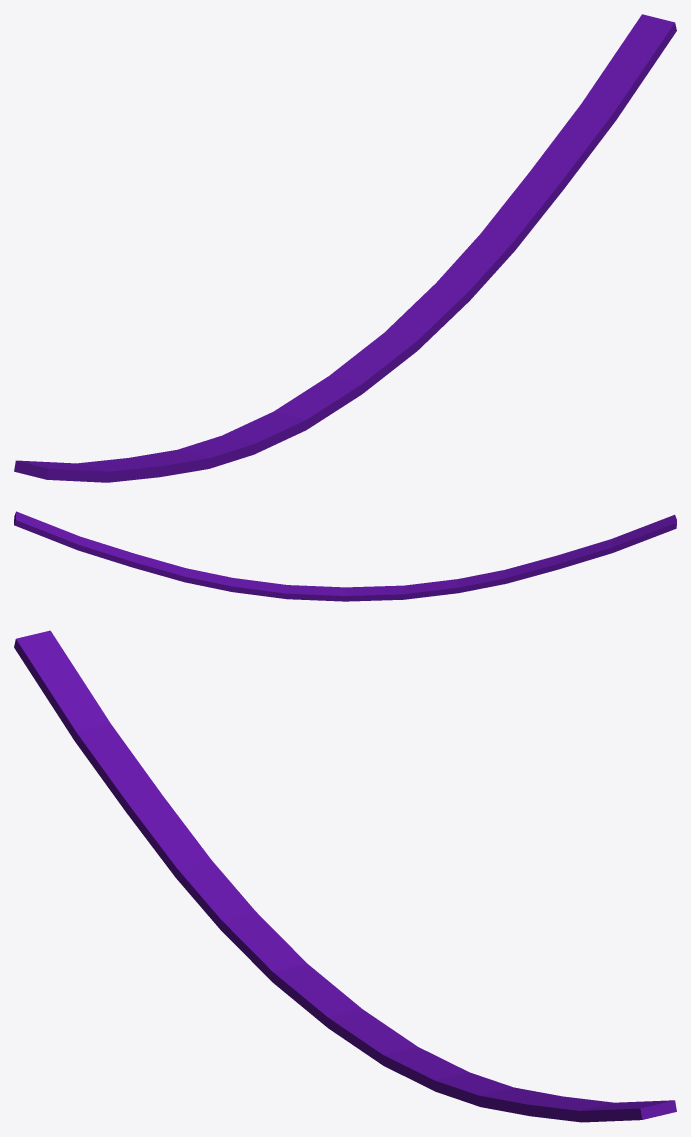
The model's file is Tape_19_chunks.fbx.
The picture shows the model from 3 angles, top to bottom: view 1: azimuth 30°, elevation 25°; view 2: azimuth 150°, elevation 25°; view 3: azimuth 270°, elevation 25°; orthographic projection. The views are drawn at different scales.
Visible parts, largest first — view 1: Tape_19_1, Tape_19_0, Tape_19_3, Tape_19_2; view 2: Tape_19_1, Tape_19_0, Tape_19_3, Tape_19_2; view 3: Tape_19_0, Tape_19_1, Tape_19_3, Tape_19_2.
Part boxes in pixels (box(x1,y1,x2,y2)): Tape_19_1: box(344, 14, 676, 381); Tape_19_0: box(107, 364, 359, 478); Tape_19_3: box(14, 460, 165, 482); Tape_19_2: box(252, 373, 377, 447); Tape_19_1: box(14, 511, 335, 600); Tape_19_0: box(327, 556, 601, 601); Tape_19_3: box(552, 514, 676, 556); Tape_19_2: box(331, 579, 457, 589); Tape_19_0: box(112, 765, 377, 1020); Tape_19_1: box(342, 1019, 676, 1122); Tape_19_3: box(14, 630, 140, 809); Tape_19_2: box(218, 916, 348, 1038).
Bounding box in the file's own units: 689 × 103 × 401.
